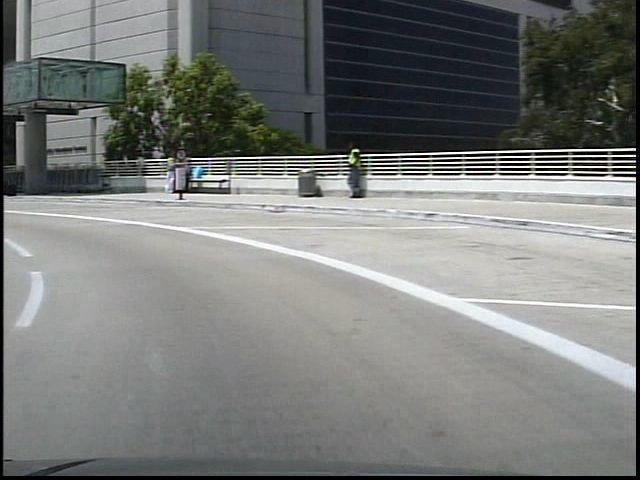person: (336, 139, 359, 202)
